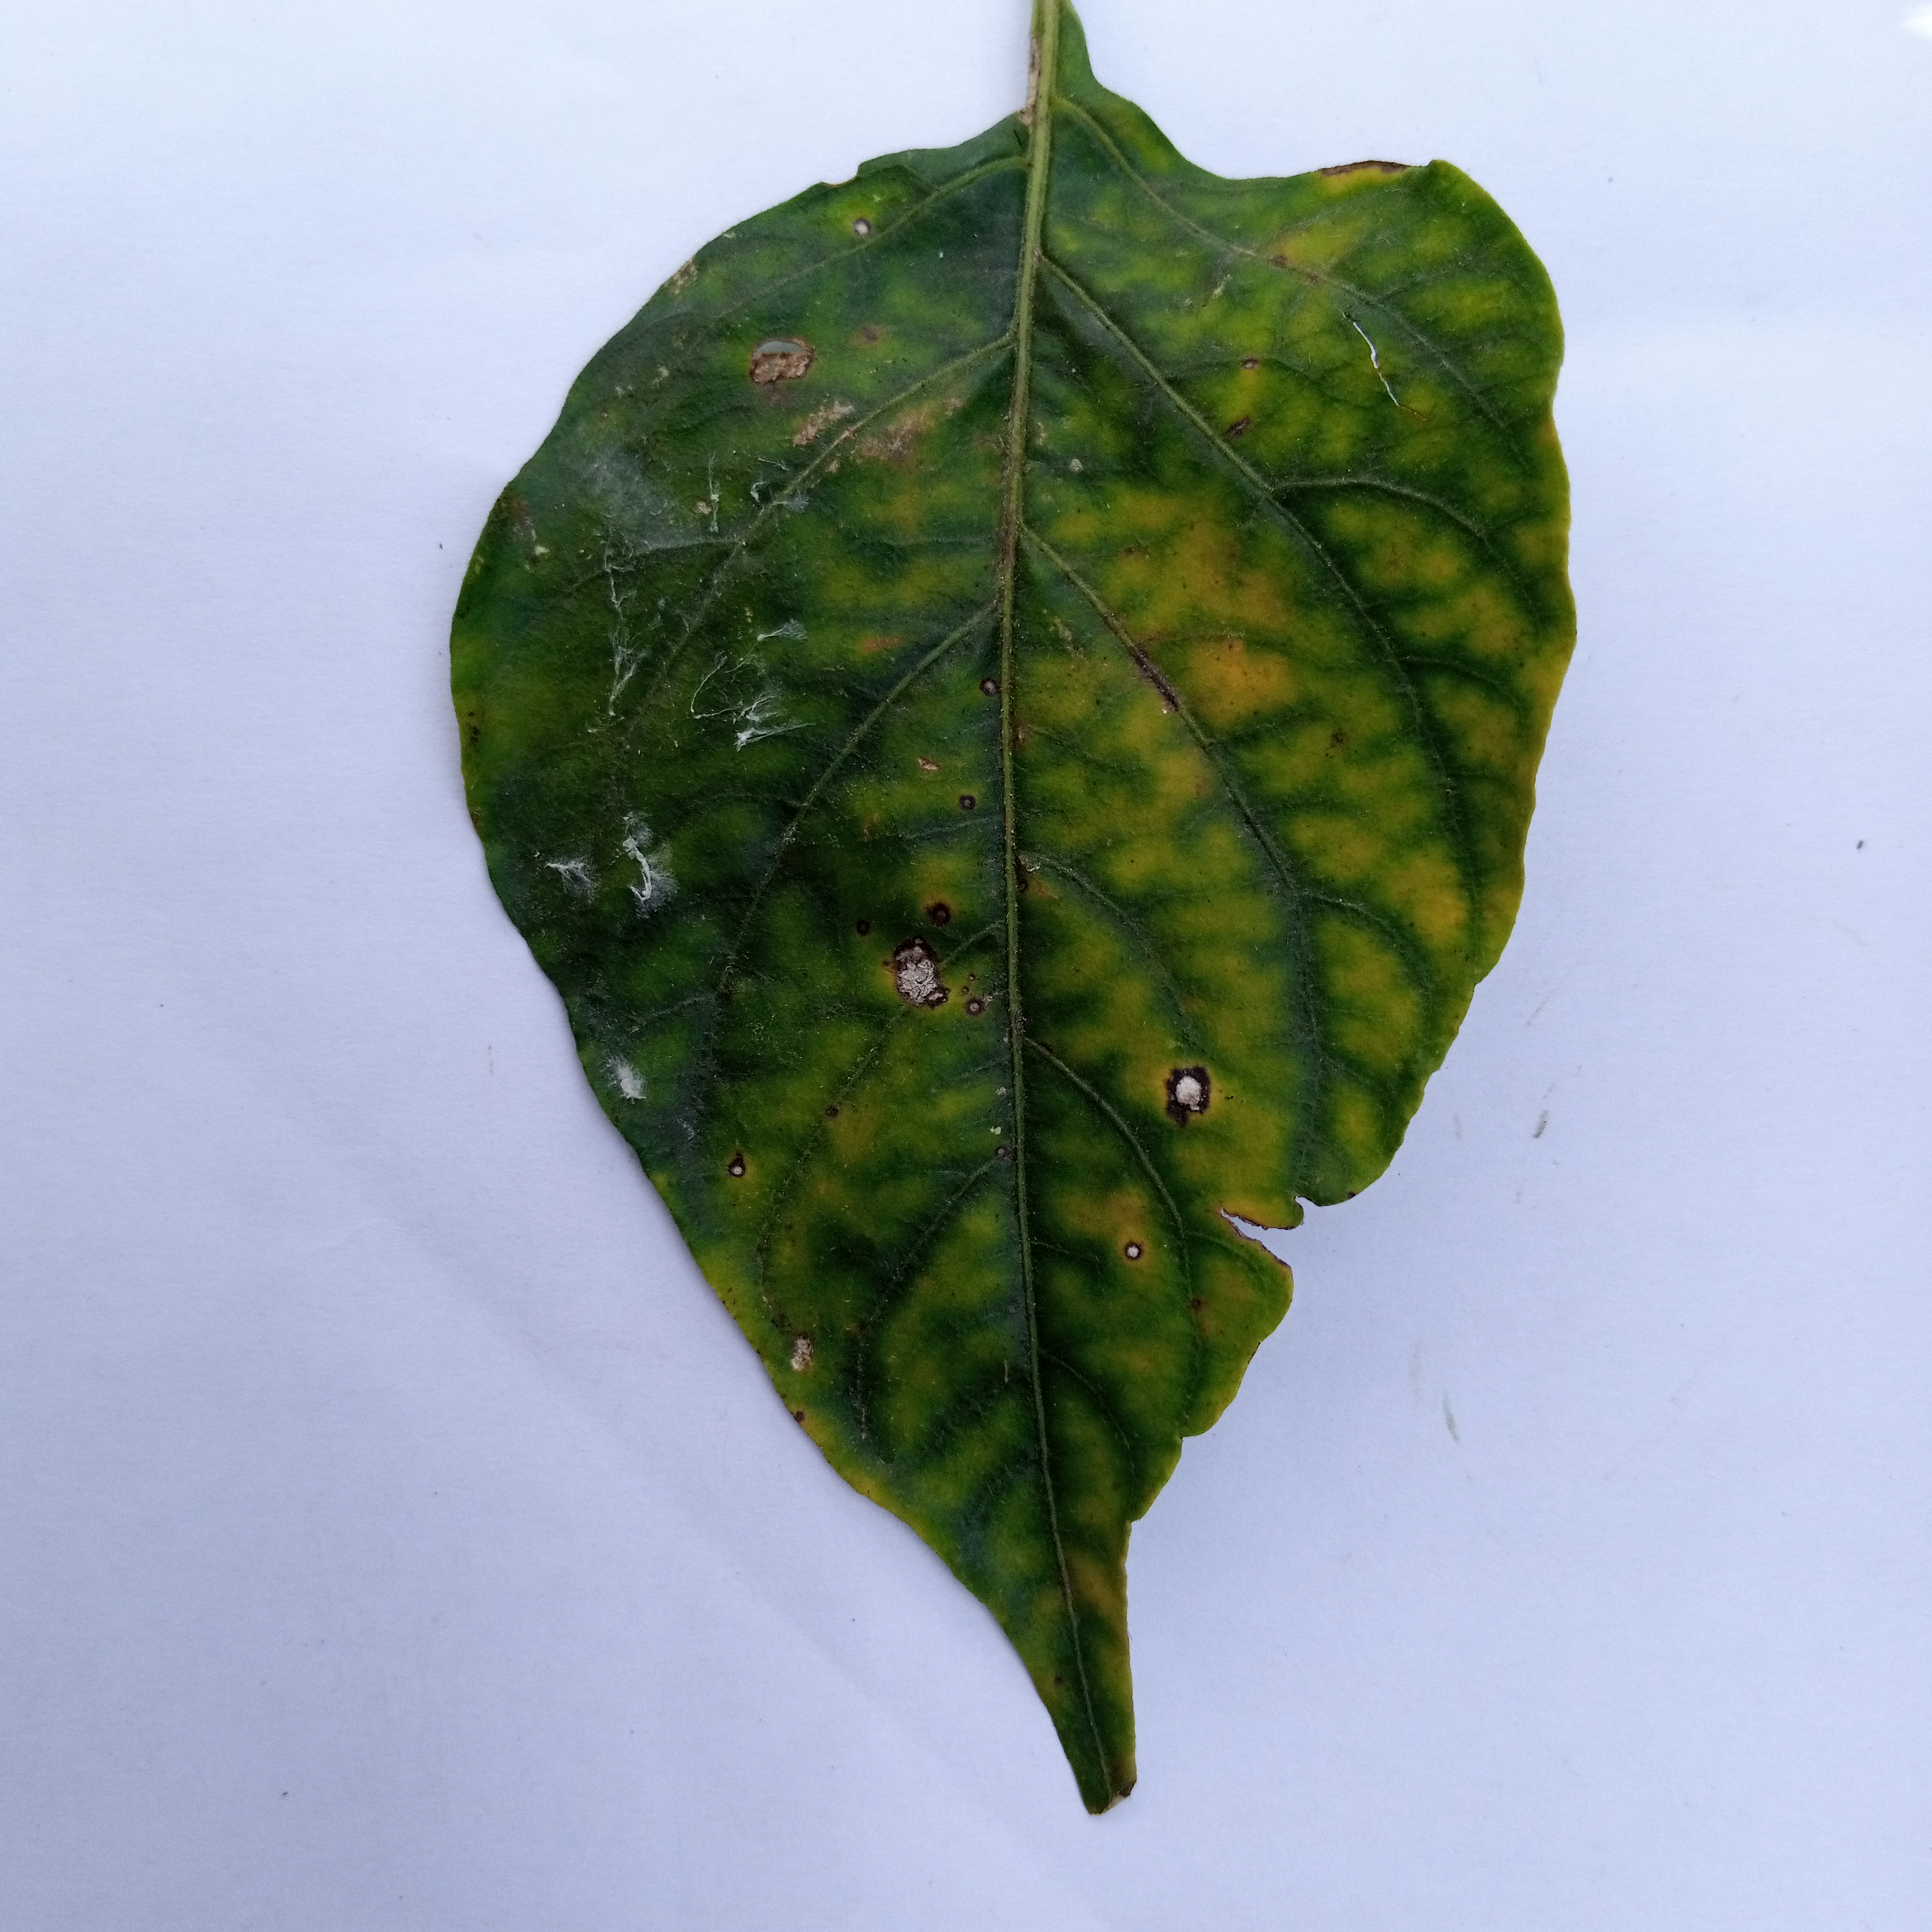Leaf: (386, 74, 1633, 1822)
